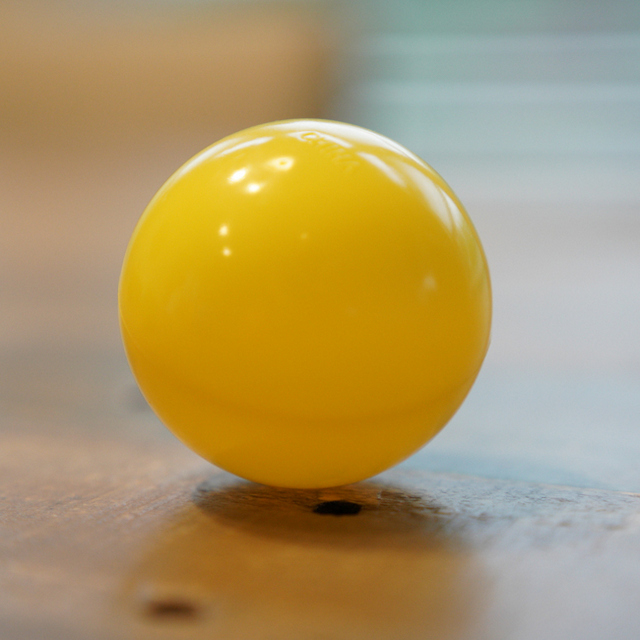Ball: (116, 115, 490, 485)
